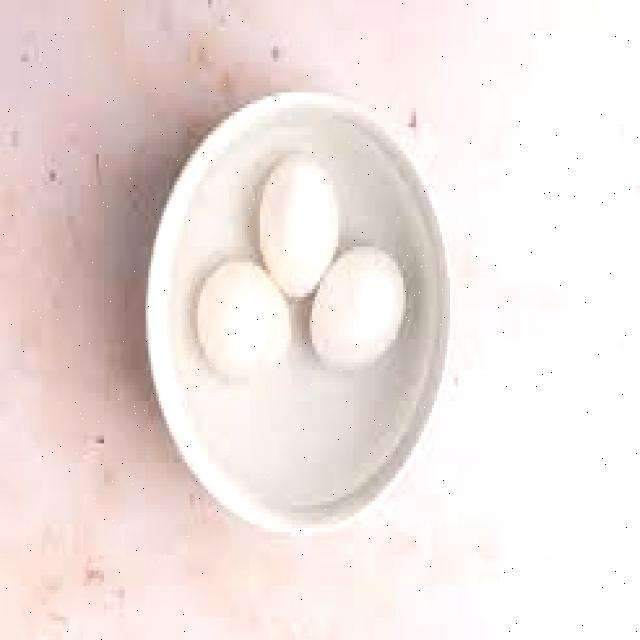White Egg: (312, 244, 413, 372), (269, 156, 346, 304), (196, 258, 290, 378)
